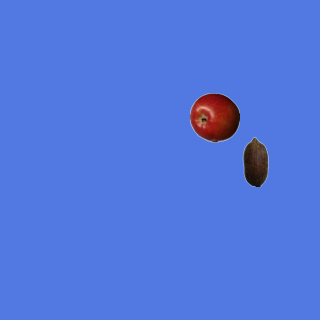Apple Braeburn: (189, 92, 239, 142)
Nut Pecan: (230, 136, 280, 186)
